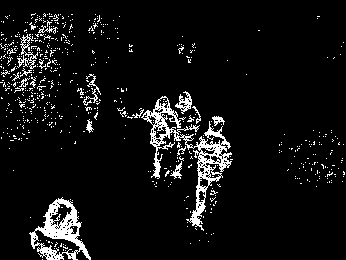person: (192, 115, 232, 228), (31, 196, 91, 260), (143, 96, 178, 182), (173, 88, 199, 173), (76, 74, 103, 134)
